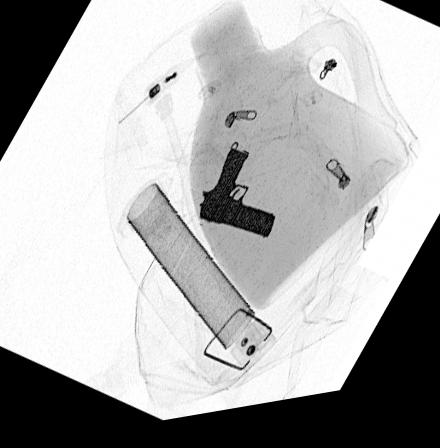Gun: (197, 153, 275, 247)
